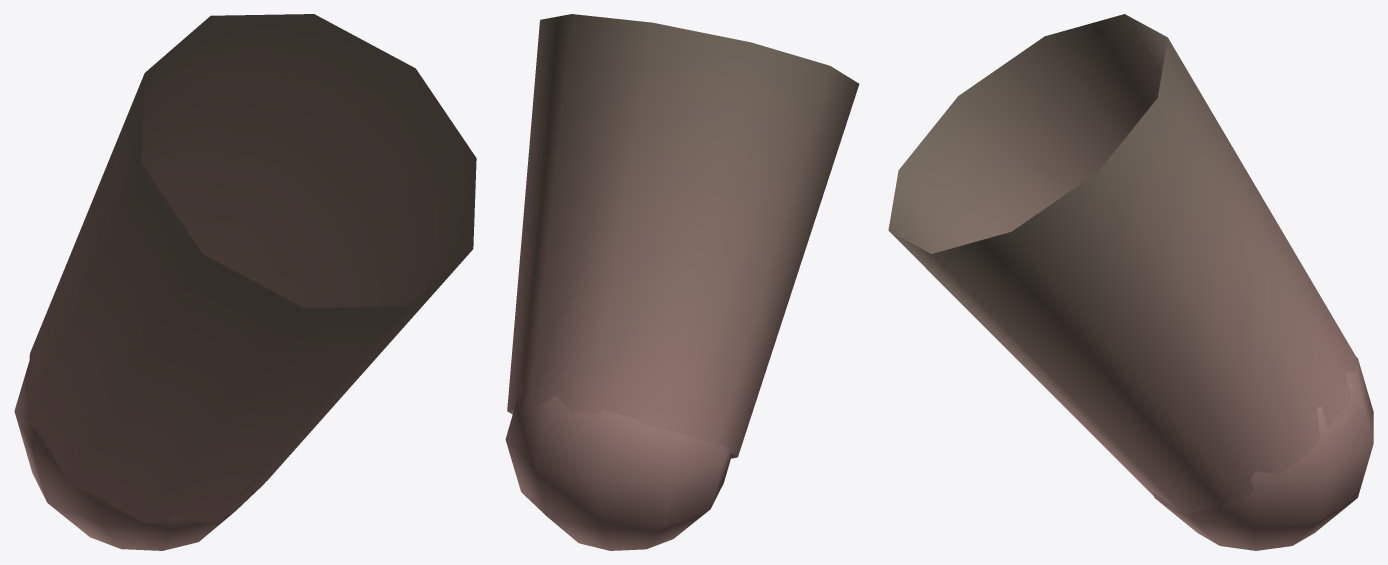
File: Nezumi_Limb1L.fbx
3 views of the same model, side by side, from view 1: azimuth 30°, elevation 25°; view 2: azimuth 150°, elevation 25°; view 3: azimuth 270°, elevation 25° (orthographic). The views are drawn at different scales.
Parts seen in each view (by area): view 1: Nezumi_Limb1L; view 2: Nezumi_Limb1L; view 3: Nezumi_Limb1L.
Part boxes in pixels (box(x1,y1,x2,y2)): Nezumi_Limb1L: box(14, 14, 476, 550); Nezumi_Limb1L: box(505, 14, 859, 550); Nezumi_Limb1L: box(888, 14, 1373, 550).
Bounding box in the file's own units: 0.1764 × 0.2954 × 0.2554.
